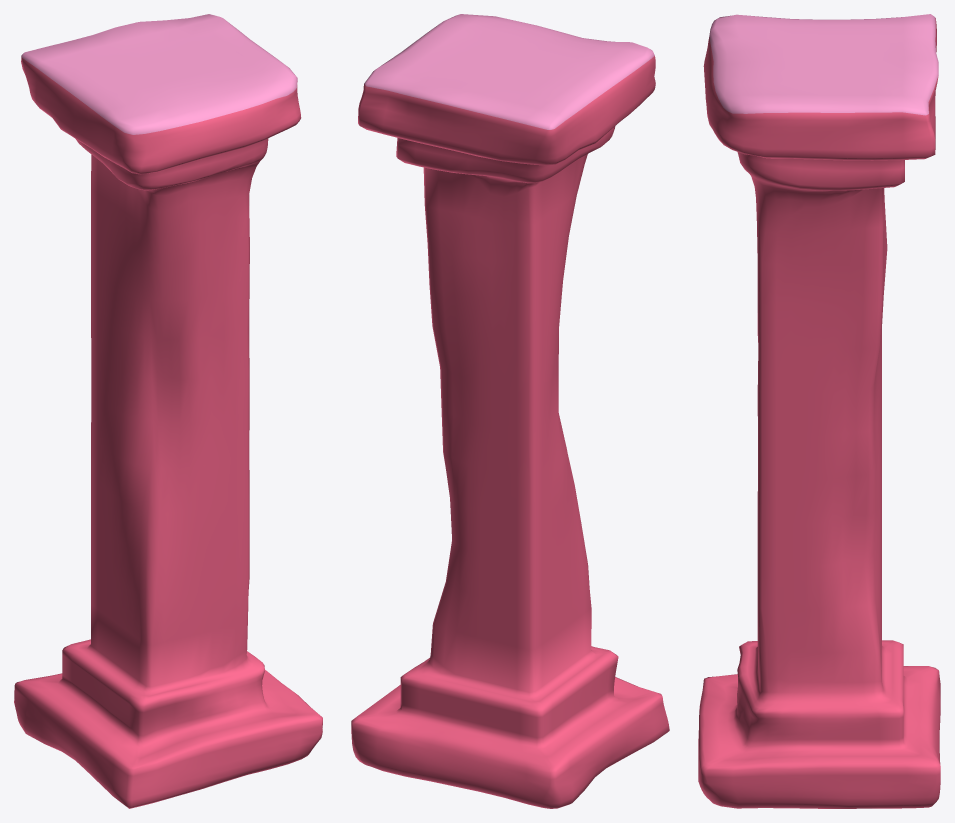
File: Pillar.fbx
3 views of the same model, side by side, from view 1: azimuth 30°, elevation 25°; view 2: azimuth 150°, elevation 25°; view 3: azimuth 270°, elevation 25° (orthographic). The views are drawn at different scales.
Parts seen in each view (by area): view 1: Pillar; view 2: Pillar; view 3: Pillar.
Part boxes in pixels (left/top/right/bottom): Pillar: left=14, top=14, right=322, bottom=808; Pillar: left=351, top=14, right=669, bottom=808; Pillar: left=698, top=14, right=940, bottom=808.
Size of the model in its own units: 203 by 645 by 201.
